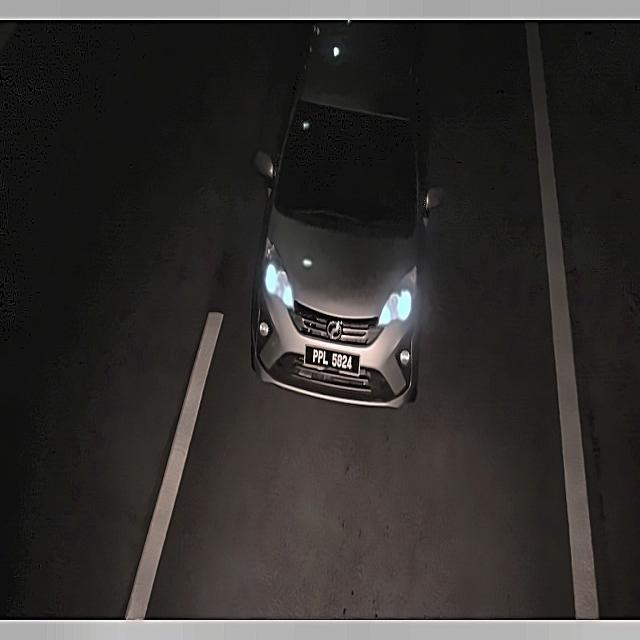car: (302, 338, 364, 380)
